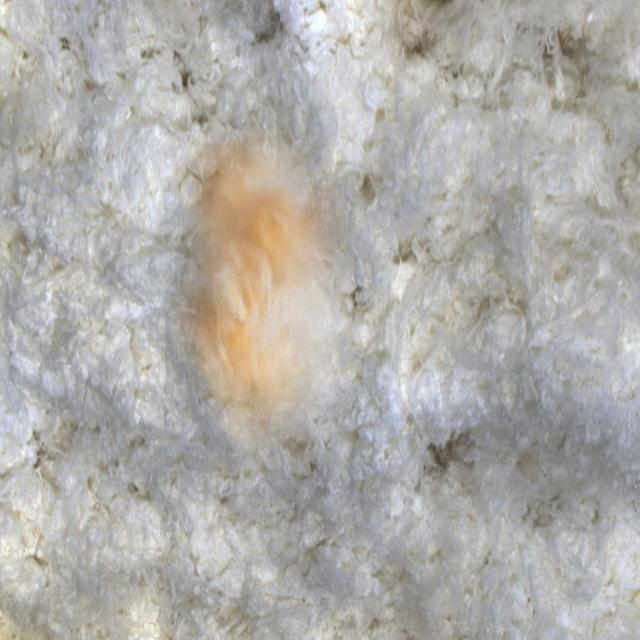dust: (165, 130, 353, 474)
